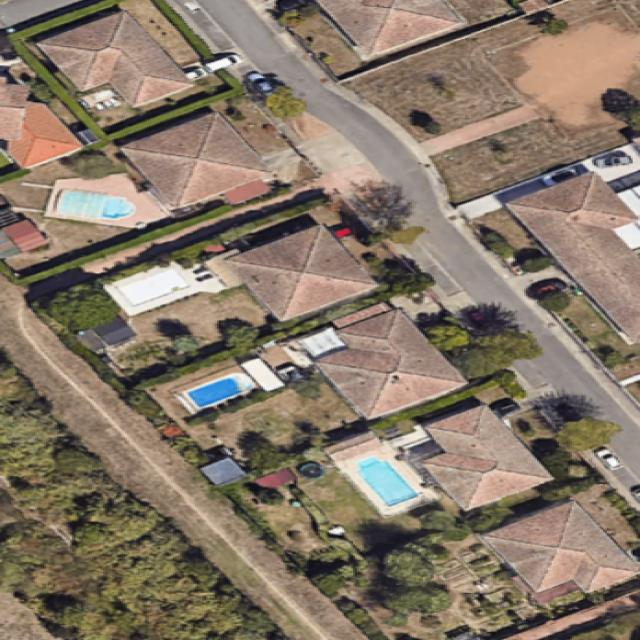maison: (482, 474, 640, 632), (309, 291, 465, 449), (37, 0, 191, 142), (118, 98, 277, 216), (409, 391, 550, 517), (227, 217, 376, 329)
